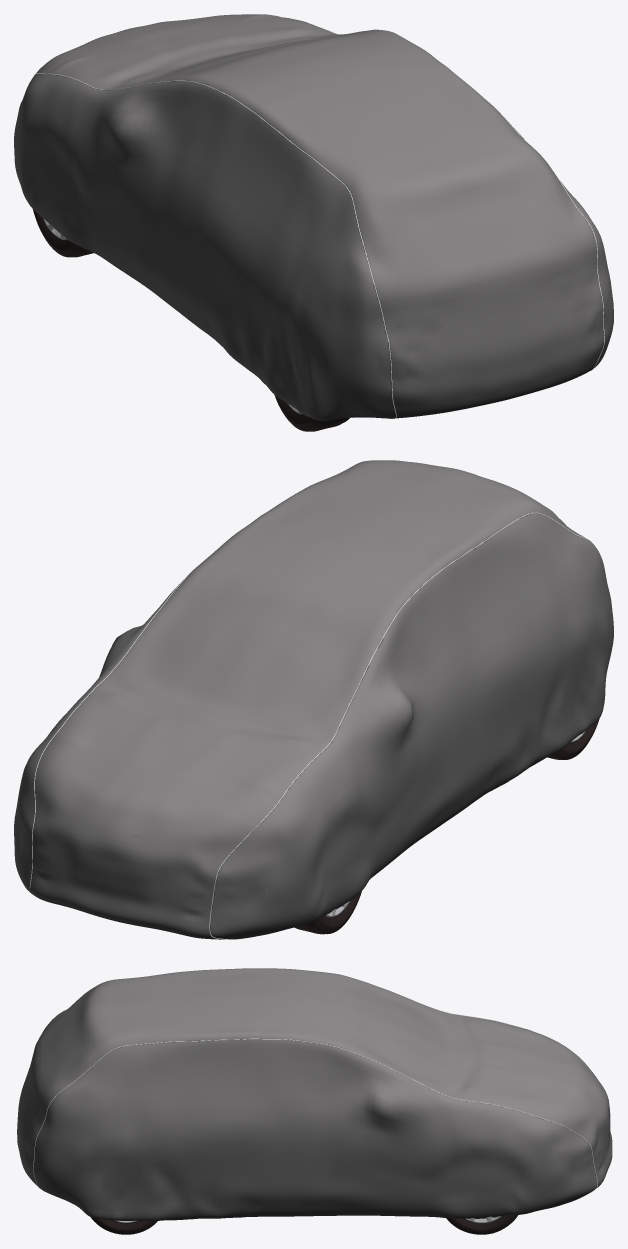
File: hatch.glb
3 views of the same model, one above another, from view 1: azimuth 30°, elevation 25°; view 2: azimuth 150°, elevation 25°; view 3: azimuth 270°, elevation 25° (orthographic). The views are drawn at different scales.
Parts seen in each view (by area): view 1: CAPA, texture_pbr_v128, LINHA; view 2: CAPA, texture_pbr_v128, LINHA; view 3: CAPA, texture_pbr_v128, LINHA.
Part boxes in pixels (<box>): CAPA: <box>14,14,613,421</box>; texture_pbr_v128: <box>33,209,349,431</box>; LINHA: <box>34,17,604,418</box>; CAPA: <box>14,460,613,939</box>; texture_pbr_v128: <box>295,718,599,934</box>; LINHA: <box>29,469,594,939</box>; CAPA: <box>17,968,612,1221</box>; texture_pbr_v128: <box>90,1214,517,1234</box>; LINHA: <box>33,978,597,1201</box>.
Size of the model in its own units: 3.27 by 2.66 by 7.71.
4 materials, 3 textured.
